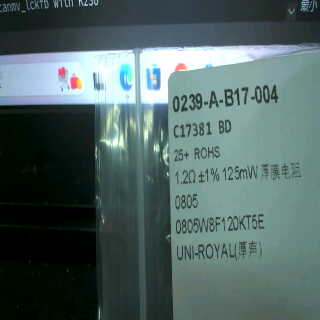1.2R: (175, 169, 197, 214)
